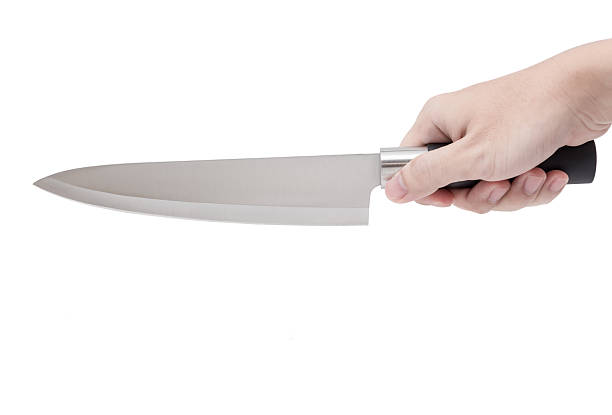knife: (30, 138, 598, 227)
